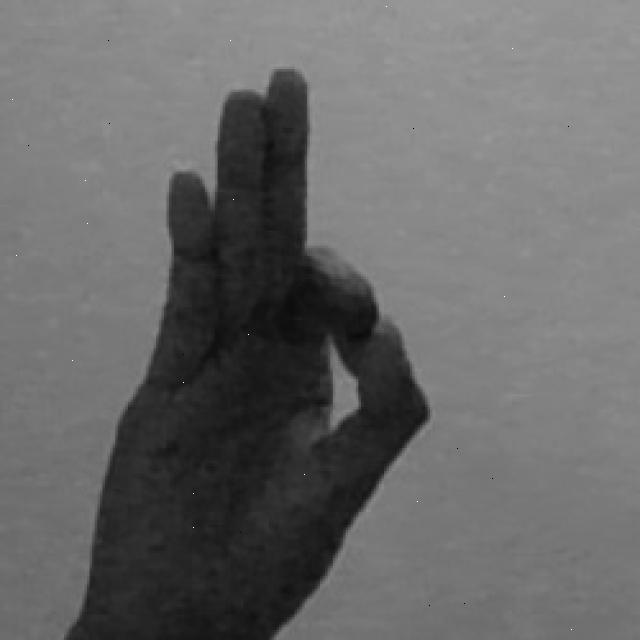F: (56, 65, 432, 640)
